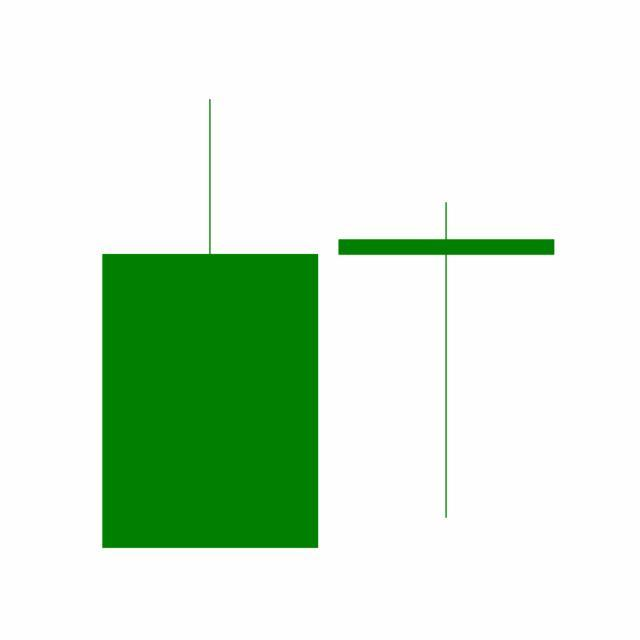Hanging Man: (328, 199, 566, 522)
